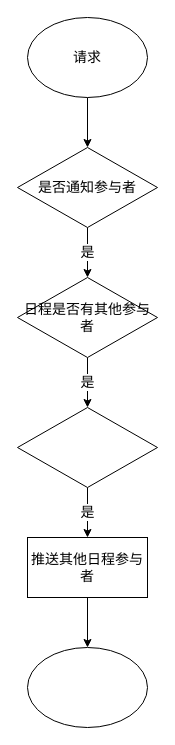
The diagram is 175 pixels wide and 745 high, and some of its shapes have lost their labels. Each missing label, with the centre of its shape:
"日程时间、地点是否有变化" goes at point 87,447.
"结束" goes at point 87,687.
